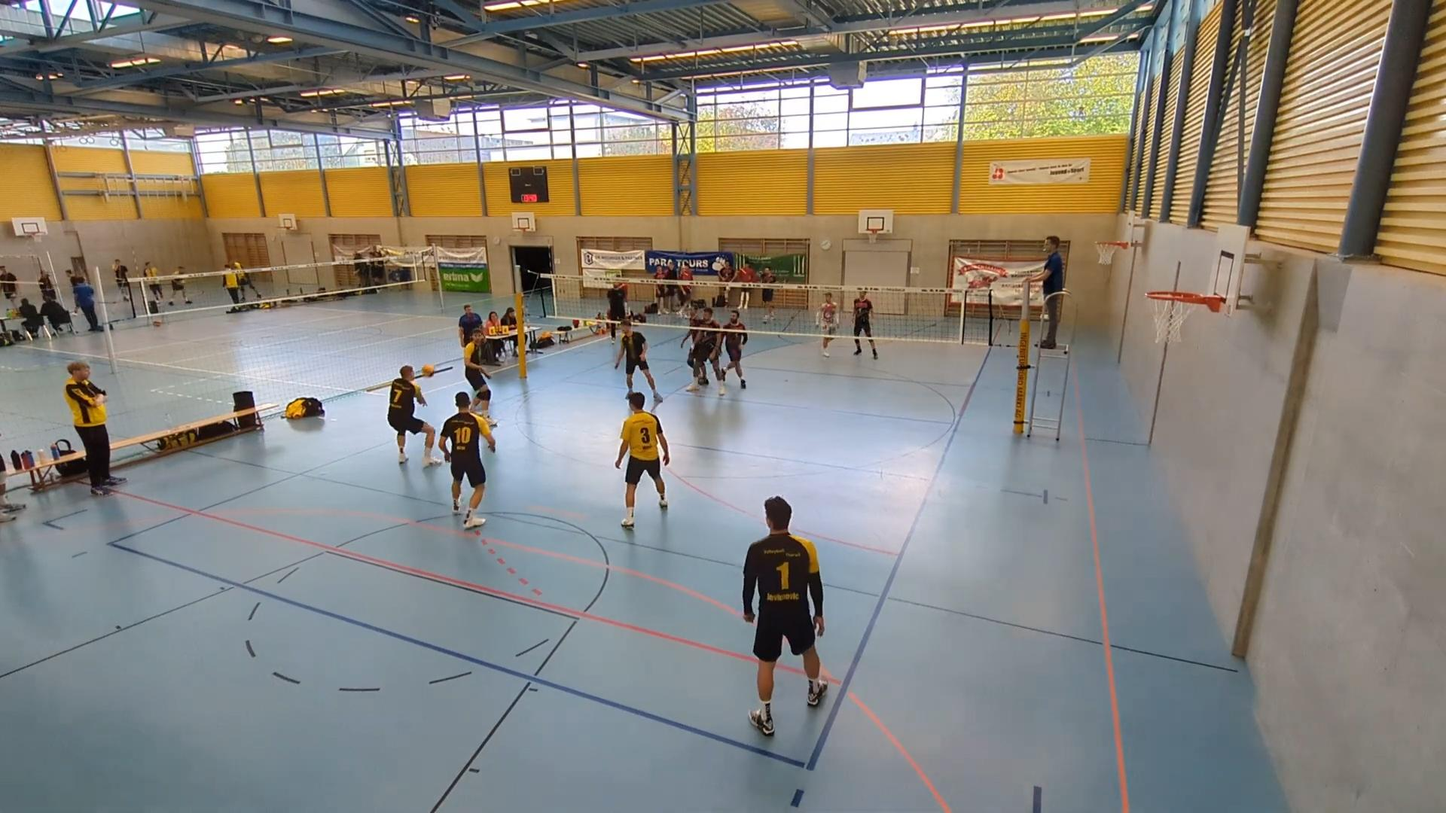ricezione: (382, 361, 443, 468)
